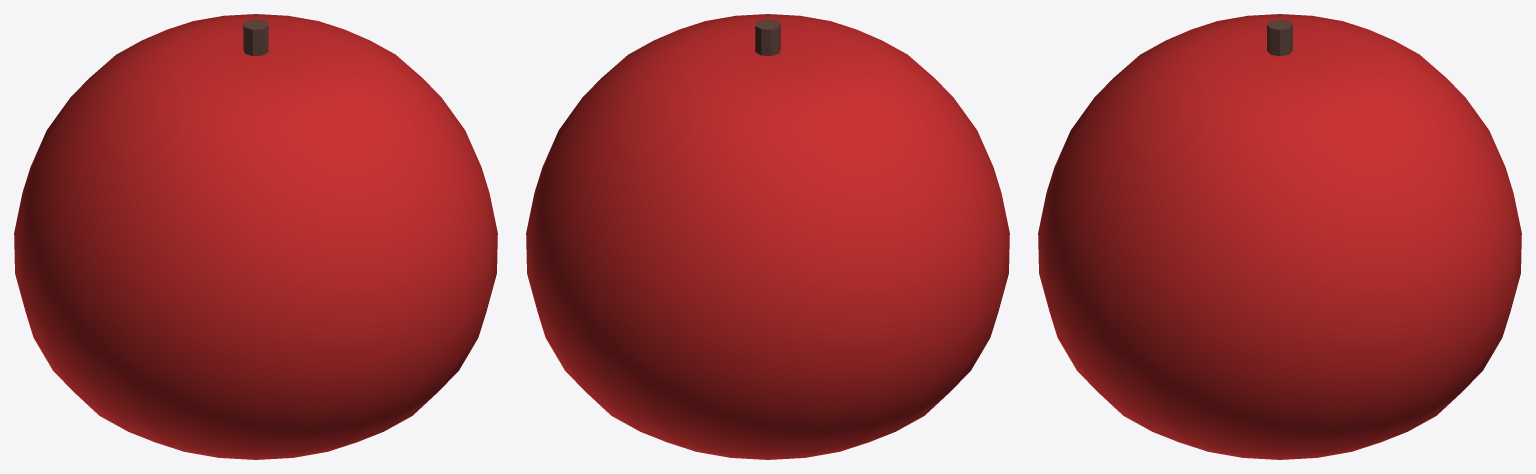
Rendered from Apple.fbx.
3 renders of one model, left to right at view 1: azimuth 30°, elevation 25°; view 2: azimuth 150°, elevation 25°; view 3: azimuth 270°, elevation 25°, orthographic.
Visible parts, largest first — view 1: Apple; view 2: Apple; view 3: Apple.
Boxes of the visible parts, x1=… form: Apple: x1=14, y1=14, x2=497, y2=459; Apple: x1=526, y1=14, x2=1009, y2=459; Apple: x1=1038, y1=14, x2=1521, y2=459.
Size of the model in its own units: 0.074 by 0.066 by 0.074.
